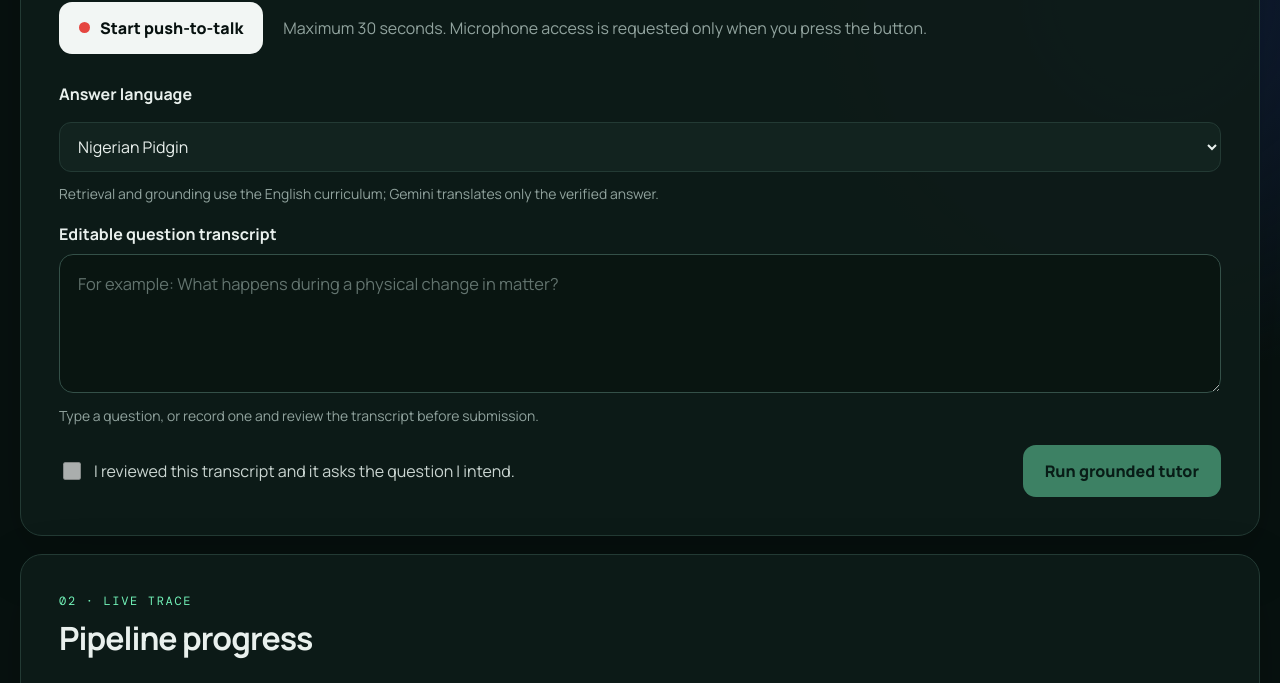
Test: App › renders live trace, retrieved chunks, citations, and grounded speech
The width and height of the screenshot is (1280, 683).
(page scrolled)
Type "What is energy?" into the text box labelled "Editable question transcript" at {"x": 640, "y": 324}, box [59,254,1221,393]
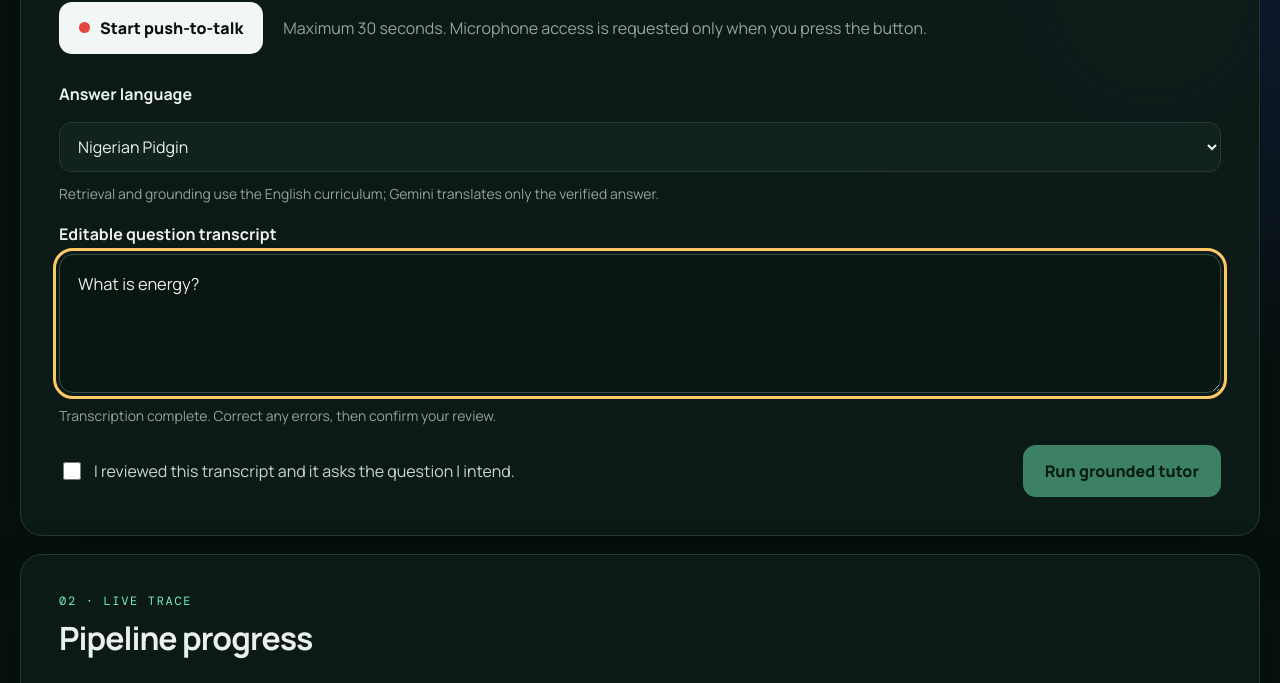
Click the checkbox labelled "I reviewed this transcript and it asks the question I intend." at {"x": 72, "y": 471}, box [63,462,81,480]
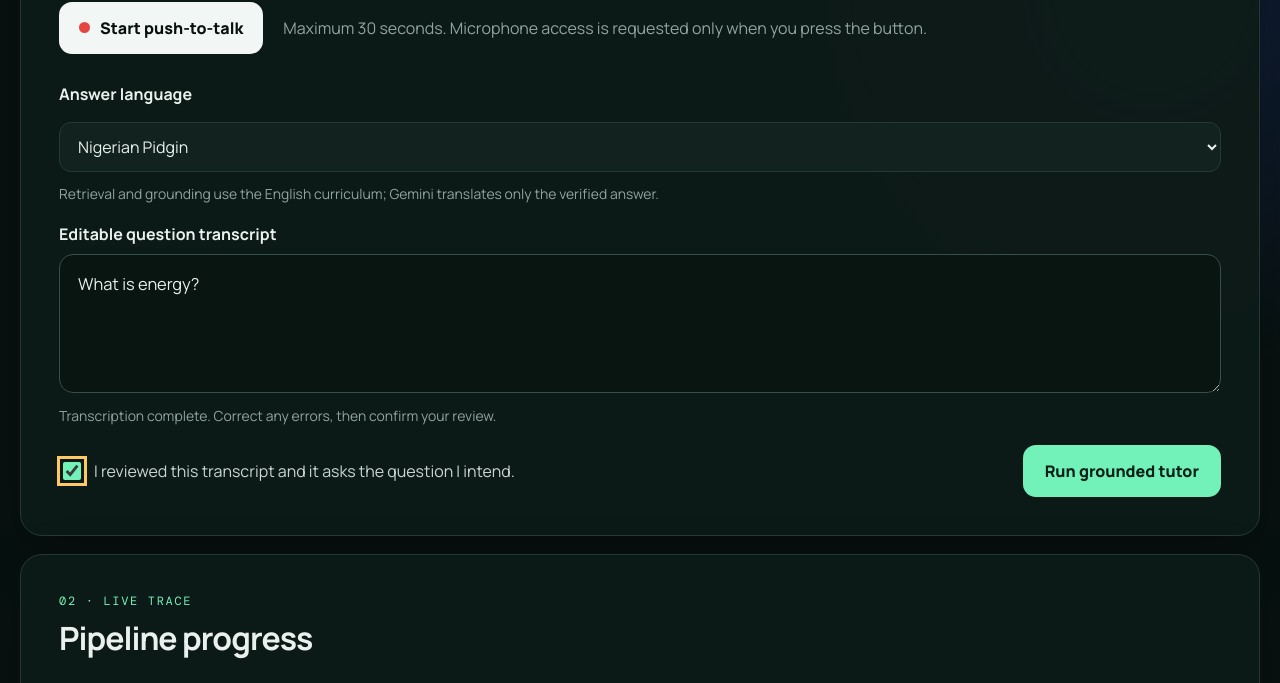
Click the button "Run grounded tutor" at {"x": 1122, "y": 471}, box [1023,445,1221,497]
(page scrolled)
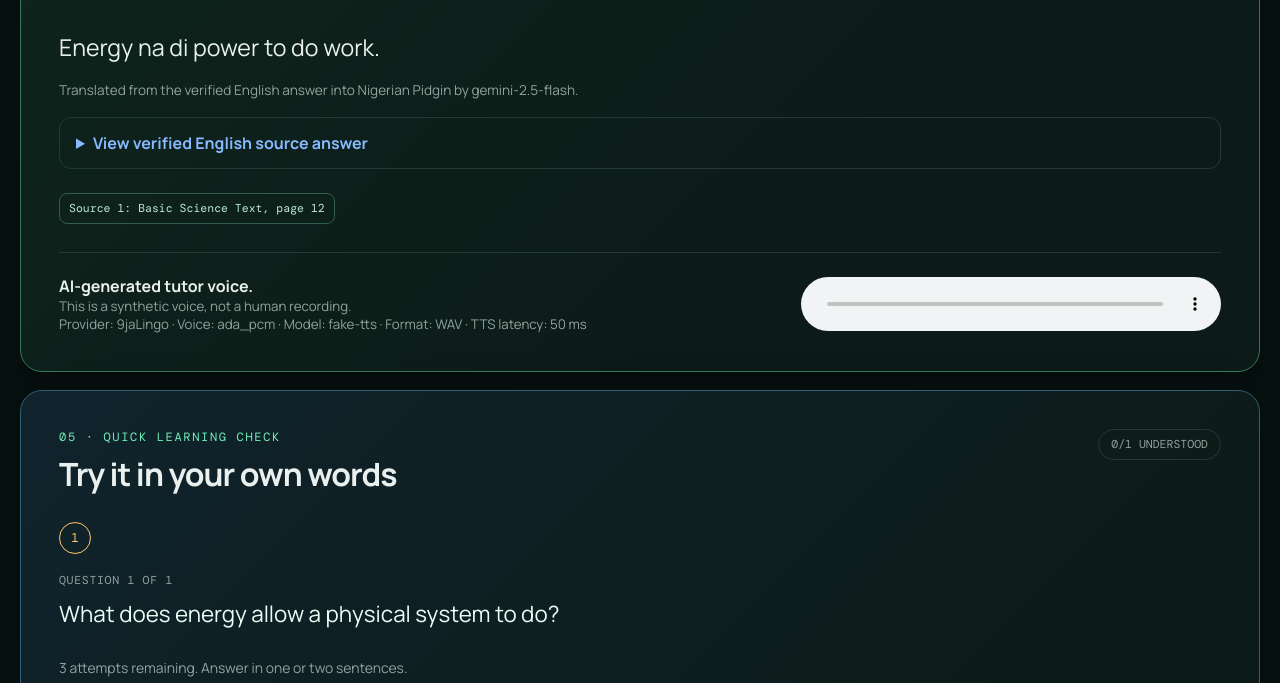
Now the text "Energy na di power to do work." is shown, box [59,31,380,63]
Now the text "Source 1: Basic Science Text, page 12" is shown, box [59,193,335,224]
Now the text "AI-generated tutor voice." is shown, box [59,275,253,297]
